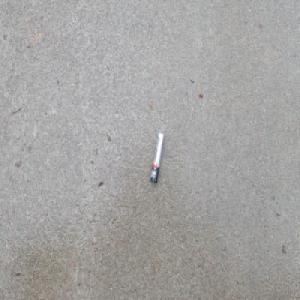Battery: (149, 130, 164, 184)
